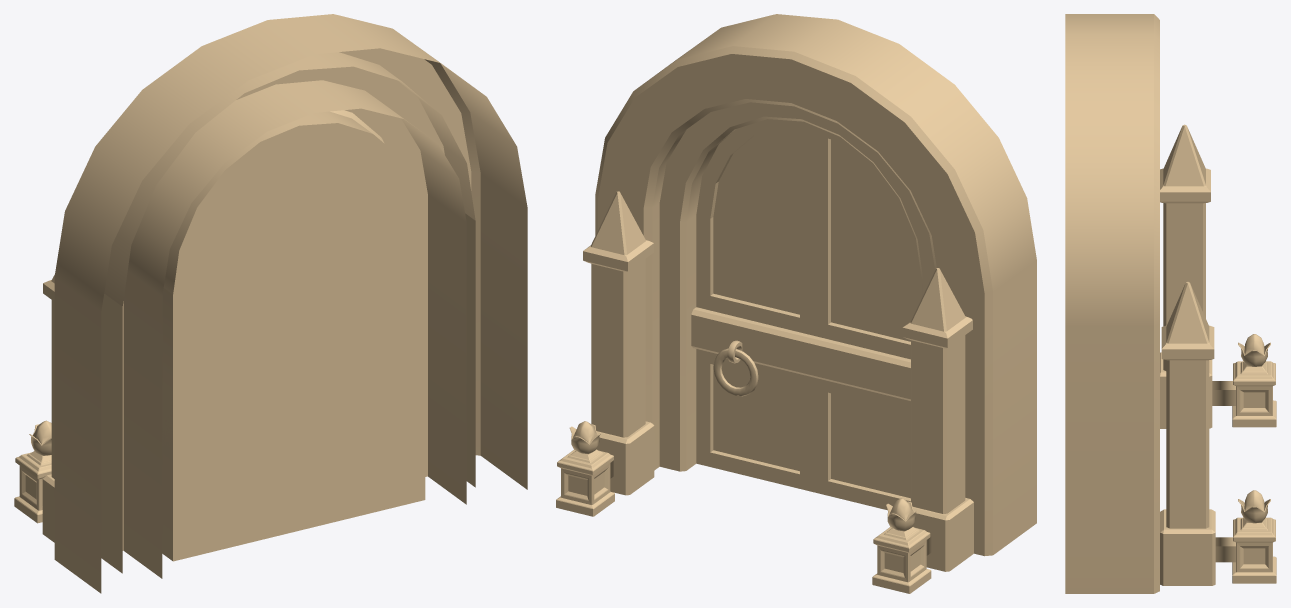
The model's file is Door_entrance.fbx.
The picture shows the model from 3 angles, left to right: view 1: azimuth 30°, elevation 25°; view 2: azimuth 150°, elevation 25°; view 3: azimuth 270°, elevation 25°; orthographic projection. The views are drawn at different scales.
Parts seen in each view (by area): view 1: arch, DADOOR, arch1, Statuette3, Pillar_Small1; view 2: DADOOR, arch, arch1, Pillar_Small1, Pillar_Small2, Statuette3, Statuette2, big_handle; view 3: arch, Pillar_Small2, Pillar_Small1, Statuette3, Statuette2.
Part boxes in pixels (x1,y1,x2,y2): arch: (54,14,527,593); DADOOR: (162,123,425,561); arch1: (101,52,475,573); Statuette3: (14,420,51,523); Pillar_Small1: (42,274,54,542); DADOOR: (691,119,921,510); arch: (595,14,1036,556); arch1: (659,102,934,471); Pillar_Small1: (902,268,973,571); Pillar_Small2: (583,191,654,495); Statuette3: (872,498,931,593); Statuette2: (556,421,614,516); big_handle: (713,348,758,396); arch: (1065,14,1159,593); Pillar_Small2: (1160,282,1215,585); Pillar_Small1: (1160,124,1212,428); Statuette3: (1212,334,1276,427); Statuette2: (1215,490,1276,583).
Size of the model in its own units: 7.98 by 8.73 by 3.62.
